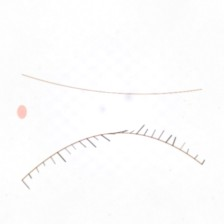corneal_ulcer: (88, 81, 141, 123)
